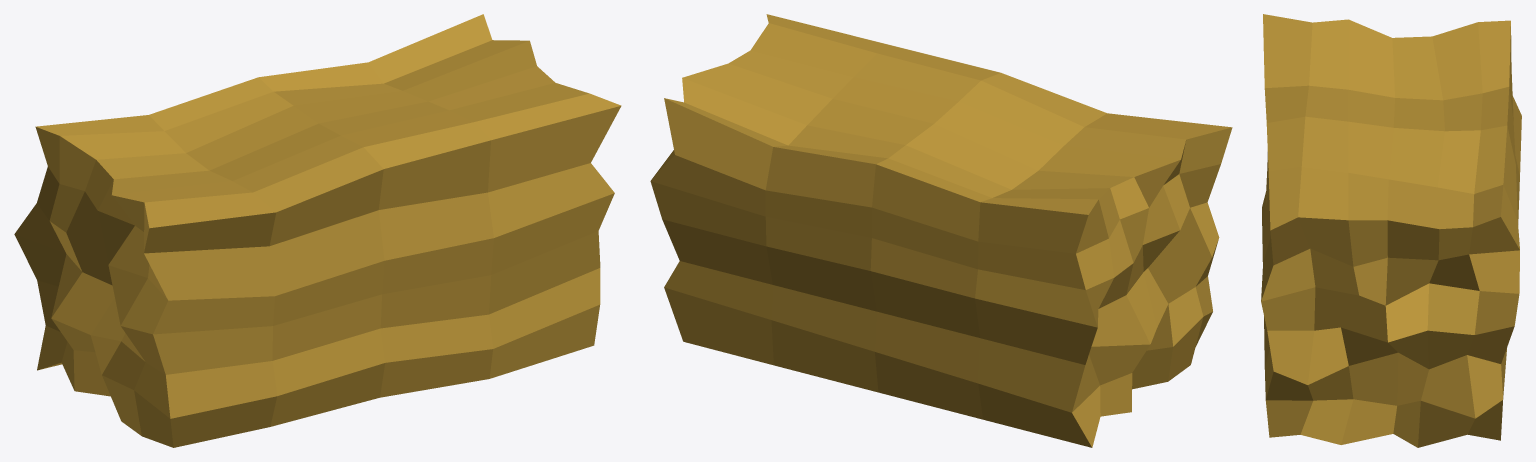
Rendered from straw.fbx.
3 views of the same model, side by side, from view 1: azimuth 30°, elevation 25°; view 2: azimuth 150°, elevation 25°; view 3: azimuth 270°, elevation 25° (orthographic). The views are drawn at different scales.
Visible parts, largest first — view 1: straw; view 2: straw; view 3: straw.
Part boxes in pixels (box(x1,y1,x2,y2)): straw: box(14, 14, 621, 447); straw: box(650, 14, 1232, 447); straw: box(1261, 14, 1521, 447).
Size of the model in its own units: 193 by 96.18 by 95.54.
